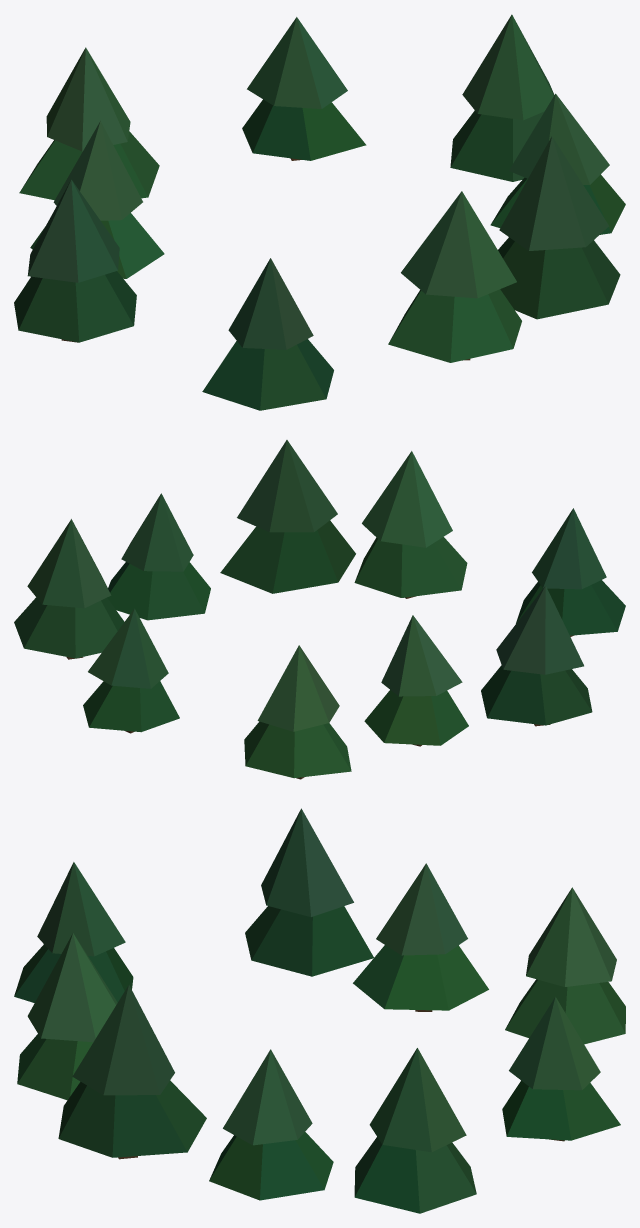
The model's file is Forest2.glb.
3 views of the same model, one above another, from view 1: azimuth 30°, elevation 25°; view 2: azimuth 150°, elevation 25°; view 3: azimuth 270°, elevation 25° (orthographic). The views are drawn at different scales.
Parts seen in each view (by area): view 1: Forest2; view 2: Forest2; view 3: Forest2.
Part boxes in pixels (left/top/right/bottom): Forest2: left=14, top=14, right=625, bottom=410; Forest2: left=14, top=440, right=625, bottom=779; Forest2: left=14, top=808, right=625, bottom=1213.
Size of the model in its own units: 1.7 by 0.4535 by 1.48.
